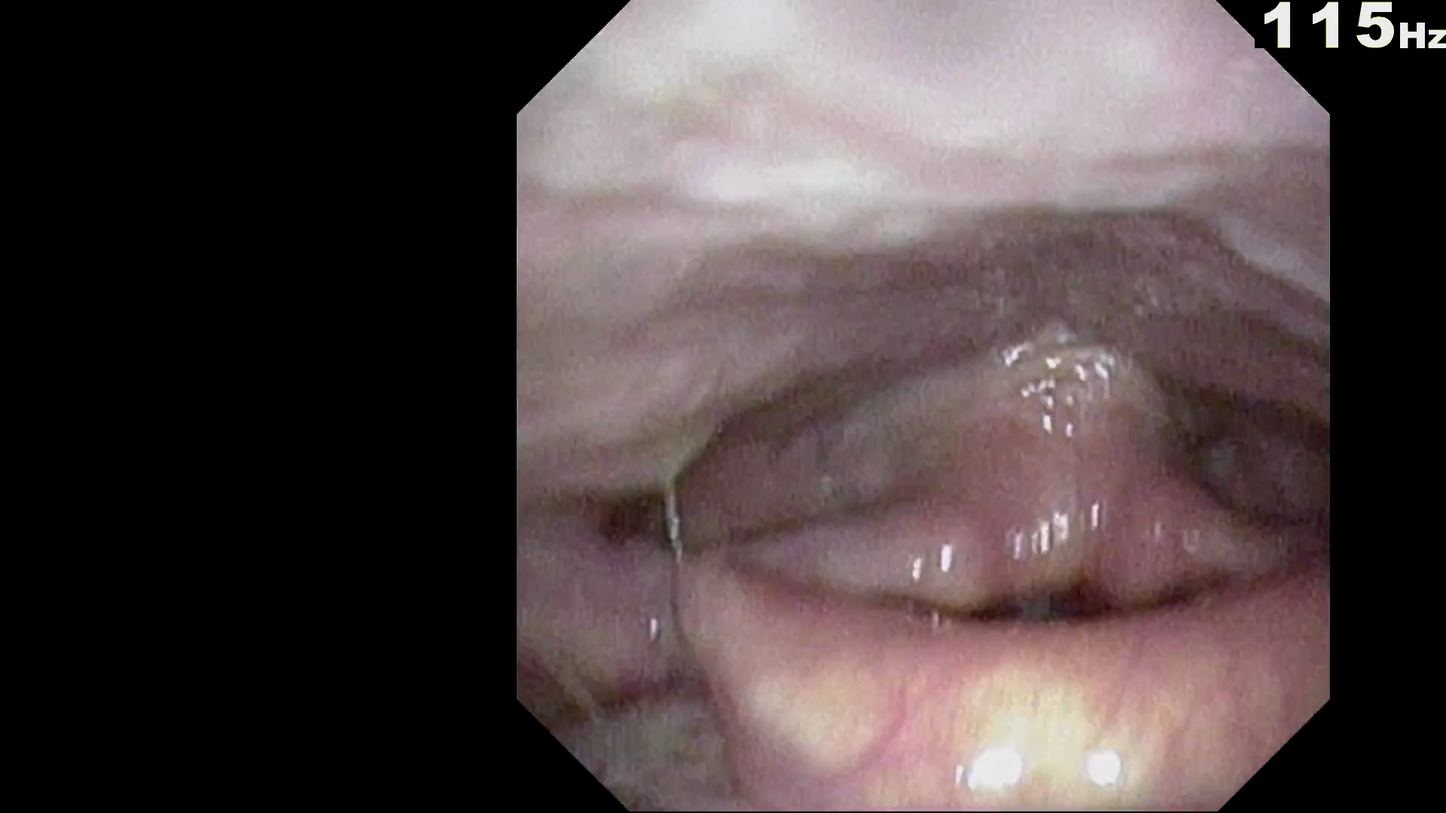epiglottis: (699, 602, 1249, 769)
